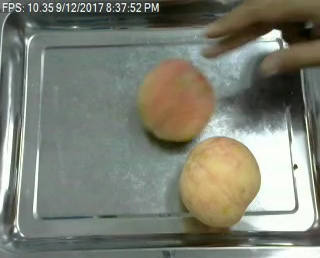Peach: (179, 135, 261, 229), (137, 57, 215, 141)
